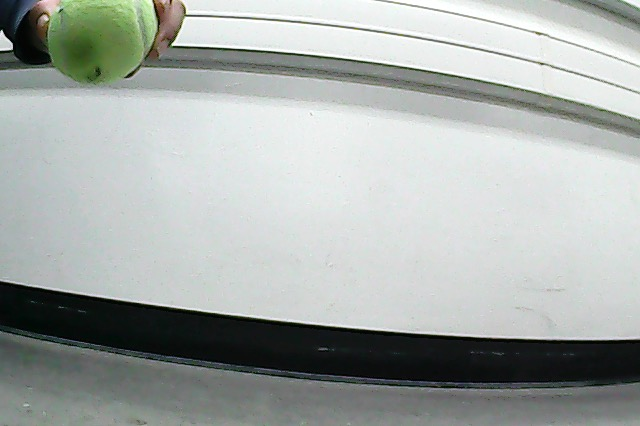ball: (48, 1, 158, 84)
